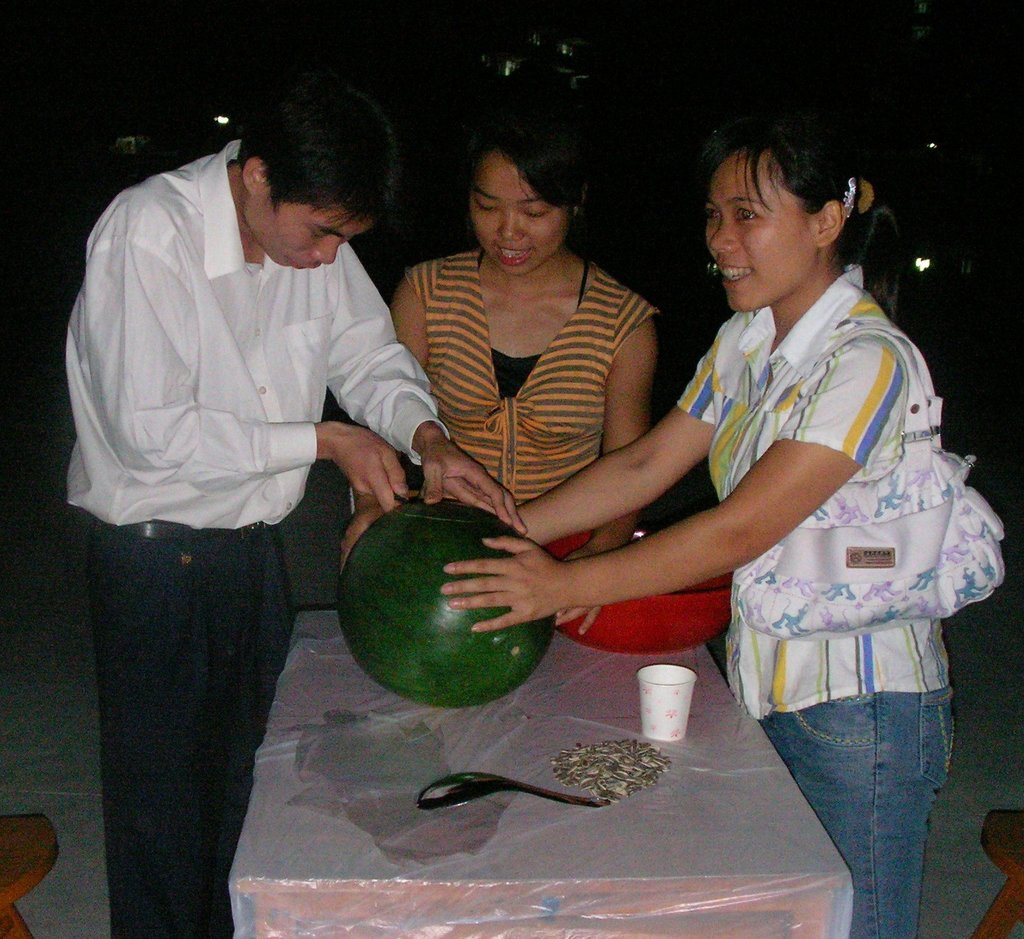Human_hand: (440, 535, 568, 640), (415, 440, 532, 540), (303, 421, 401, 517), (547, 543, 600, 635), (336, 497, 394, 571), (437, 476, 508, 519)
